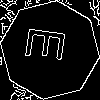E: (25, 25, 75, 64)
